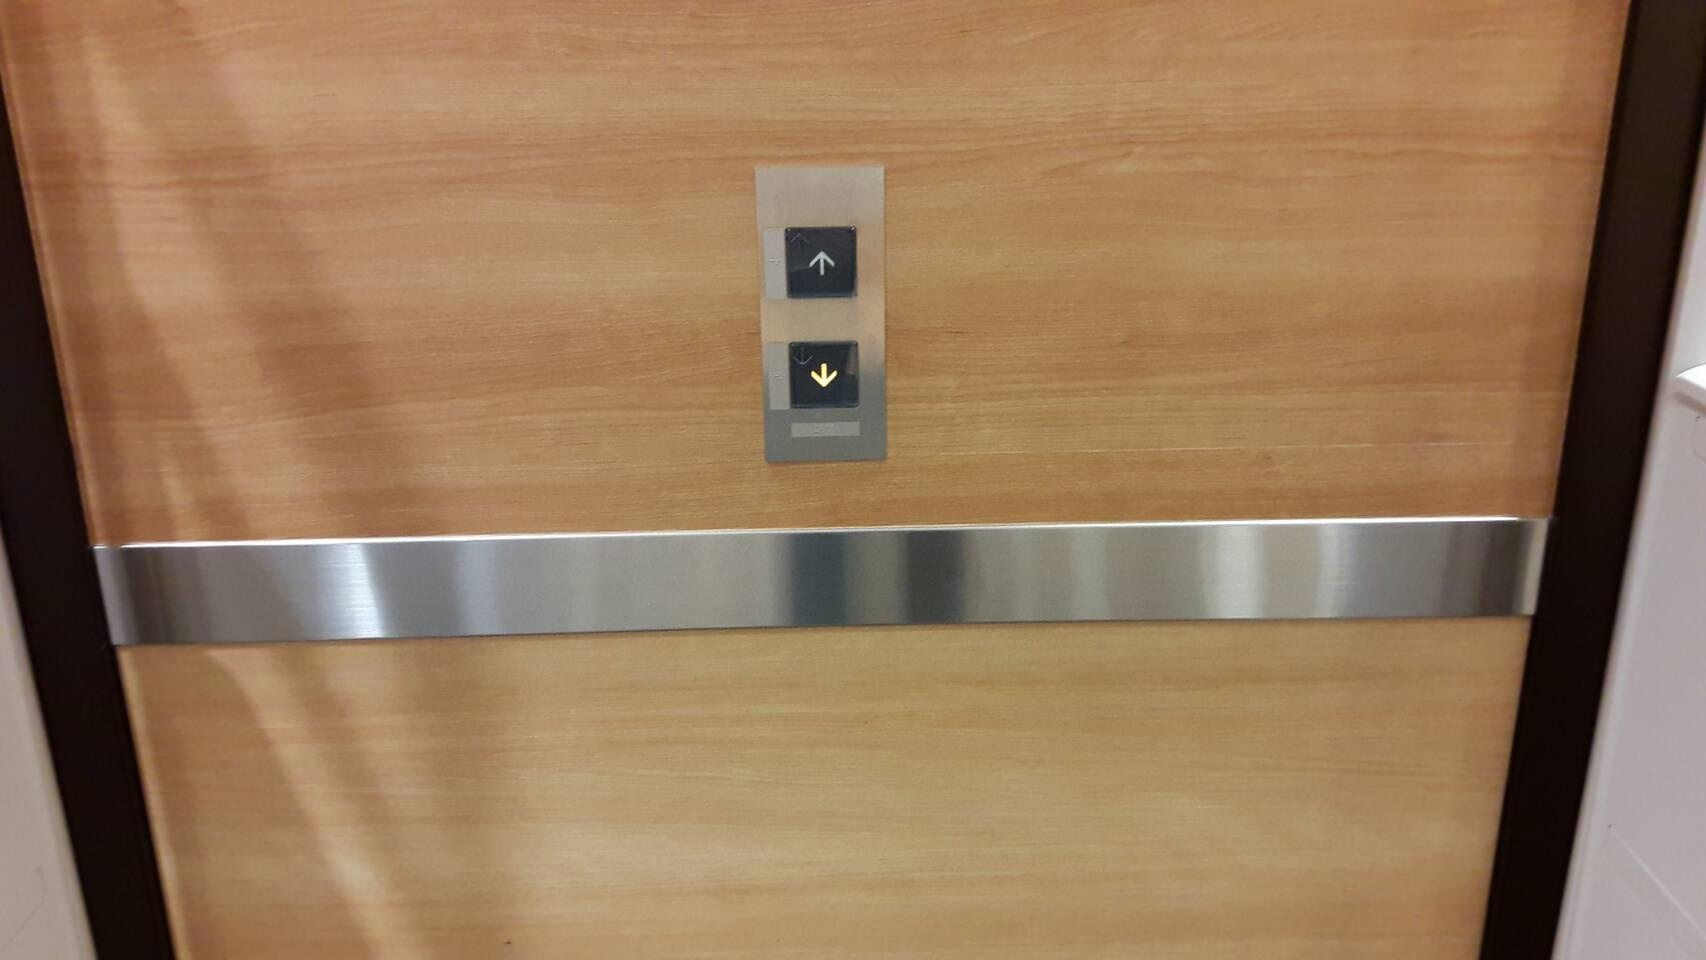down: (787, 340, 862, 411)
up: (784, 227, 859, 302)
